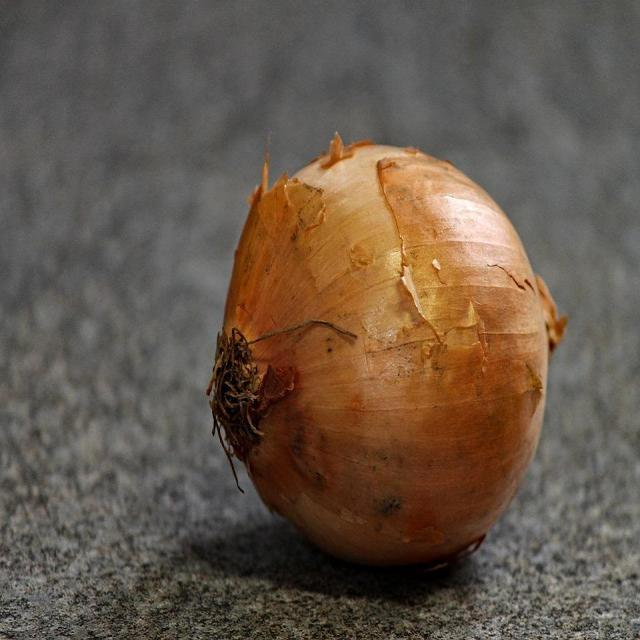Onion: (208, 134, 562, 572)
